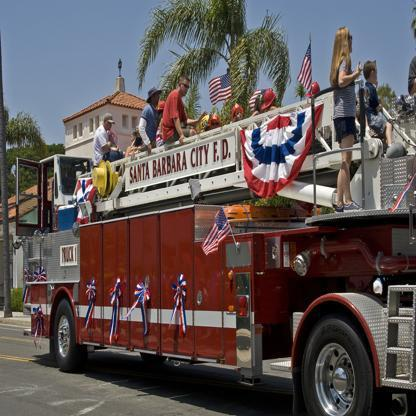fire-truck: (2, 29, 416, 416)
